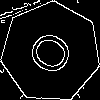O: (25, 27, 84, 84)
